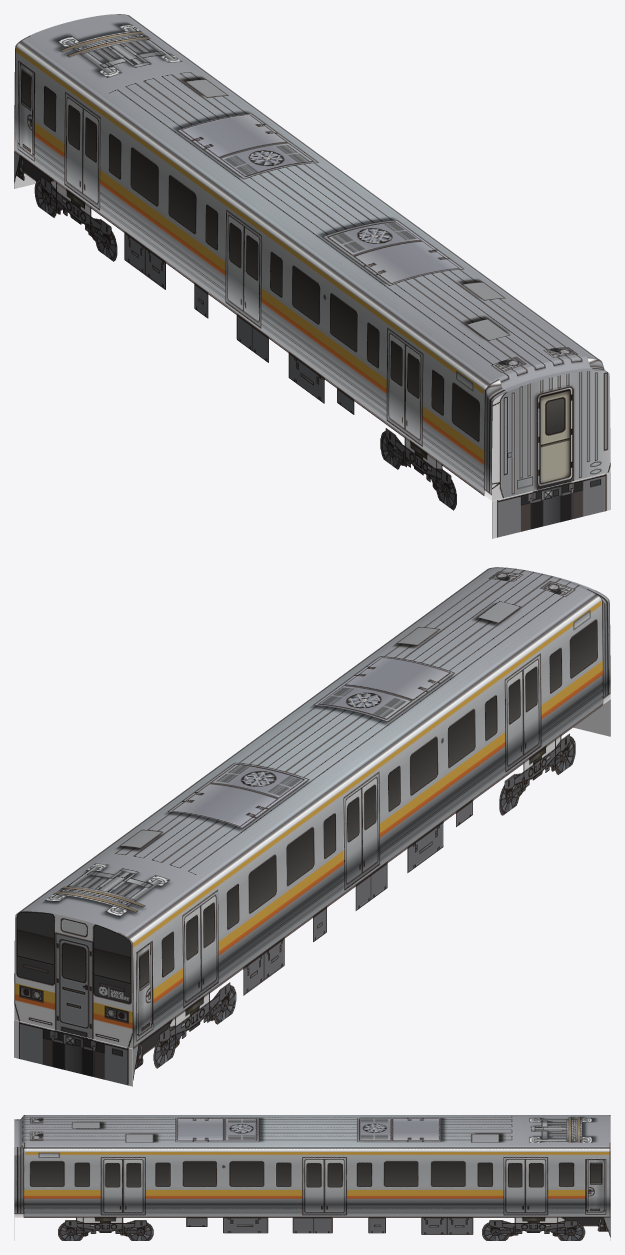
Rendered from car3.glb.
The picture shows the model from 3 angles, top to bottom: view 1: azimuth 30°, elevation 25°; view 2: azimuth 150°, elevation 25°; view 3: azimuth 270°, elevation 25°; orthographic projection. The views are drawn at different scales.
Visible parts, largest first — view 1: sangi-5000-car3; view 2: sangi-5000-car3; view 3: sangi-5000-car3.
Boxes of the visible parts, x1,y1,x2,y2 form: sangi-5000-car3: [14, 14, 610, 538]; sangi-5000-car3: [14, 567, 610, 1086]; sangi-5000-car3: [14, 1115, 610, 1240].
Size of the model in its own units: 2.97 by 3.67 by 20.68.
8 materials, 7 textured.
